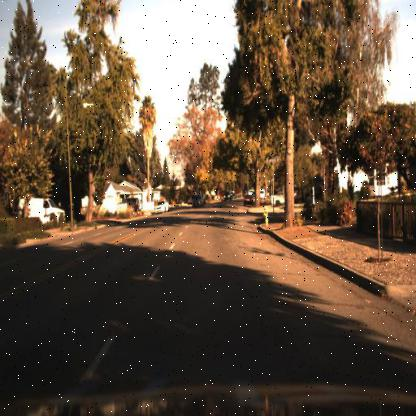car: (13, 188, 66, 232), (152, 196, 170, 216), (190, 190, 205, 212), (124, 195, 140, 214), (222, 189, 235, 204), (243, 193, 253, 206)
